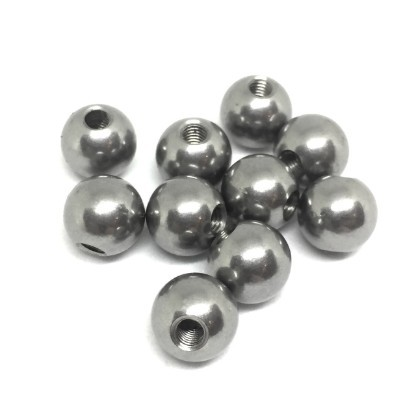ironball: (150, 272, 238, 362), (206, 219, 291, 304), (62, 173, 145, 256), (145, 174, 227, 256), (296, 174, 377, 252), (220, 152, 299, 229), (60, 103, 136, 178), (273, 113, 349, 188), (219, 74, 292, 149), (155, 116, 231, 185)
